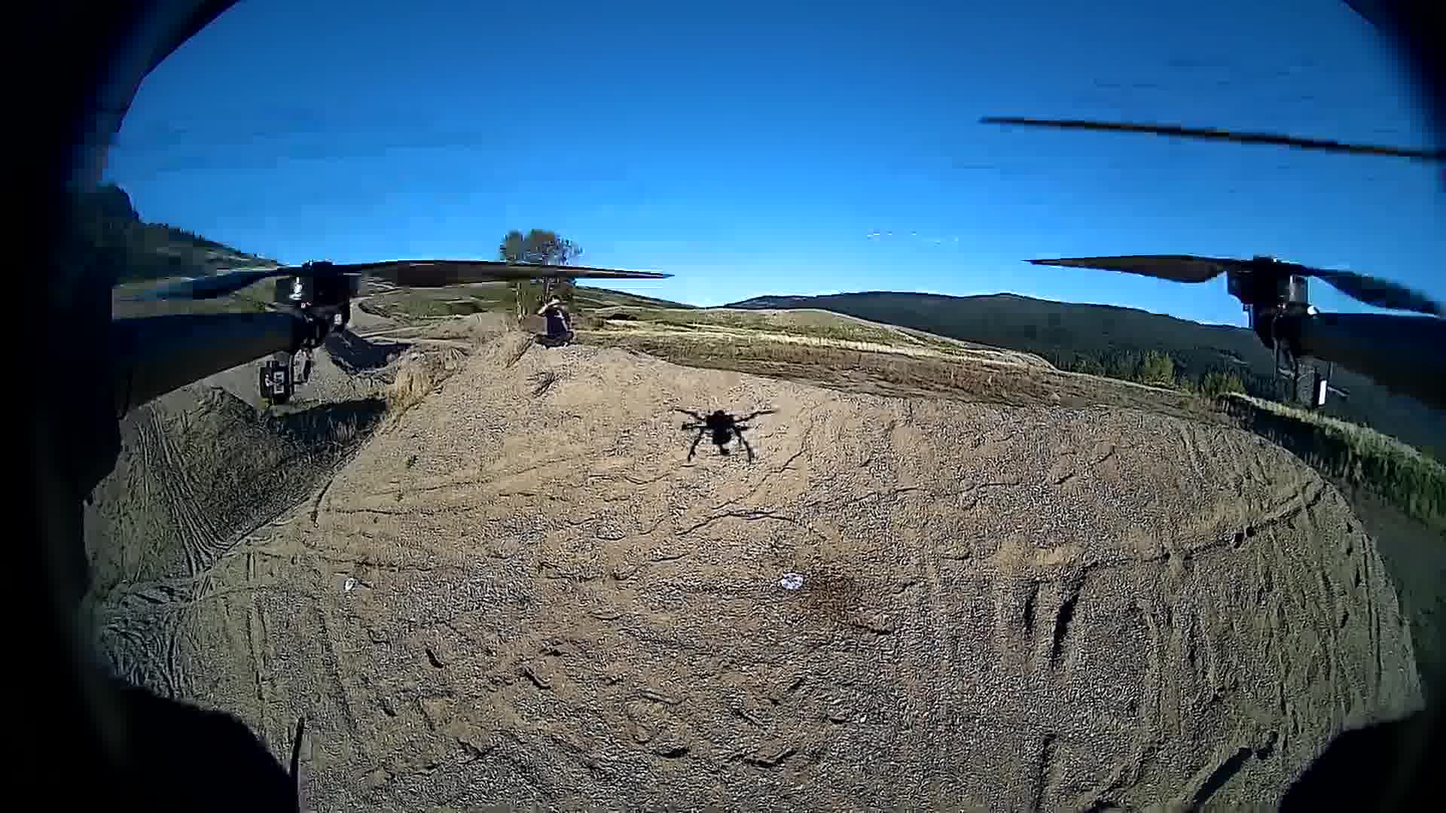Target: (780, 573, 803, 588)
